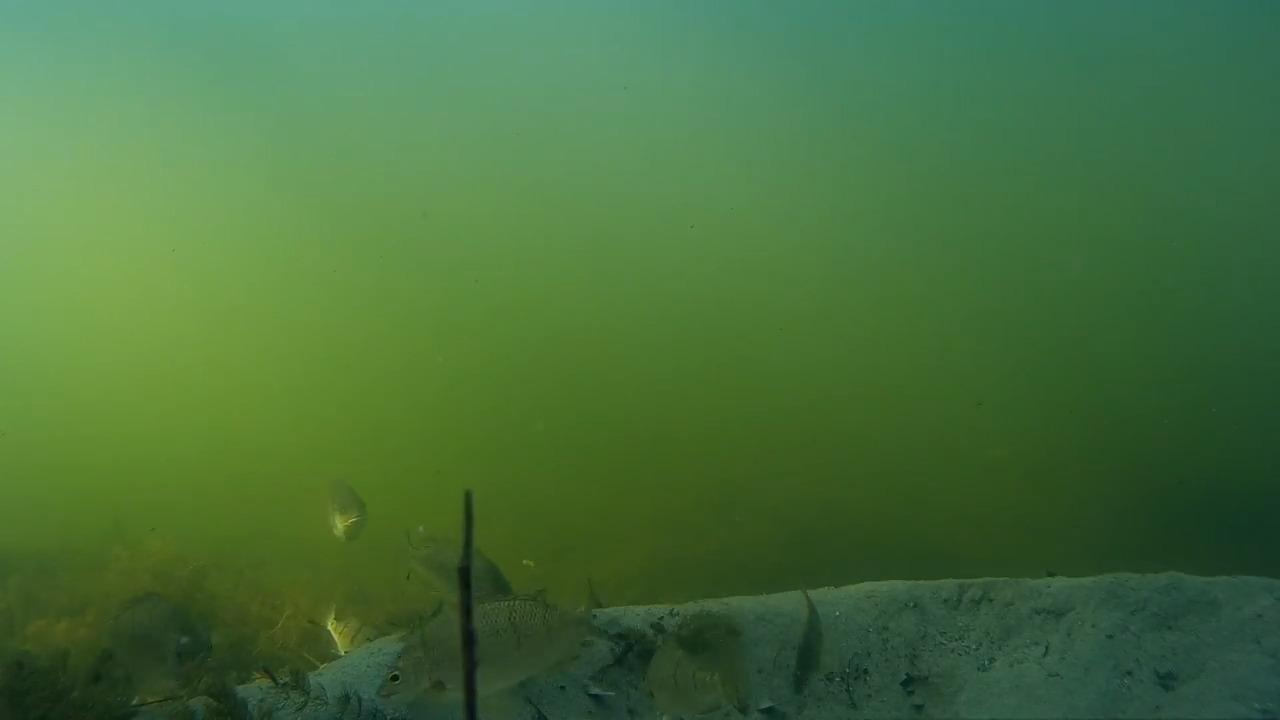Tilapia: (366, 588, 615, 720), (628, 606, 763, 720), (103, 586, 219, 680), (778, 580, 847, 708), (310, 464, 373, 548)
